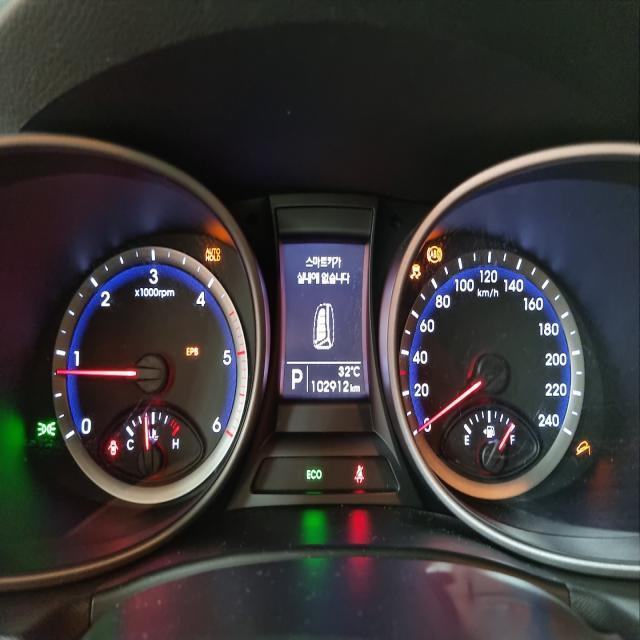Doors: (106, 440, 118, 456)
SideLamp: (35, 420, 56, 438)
